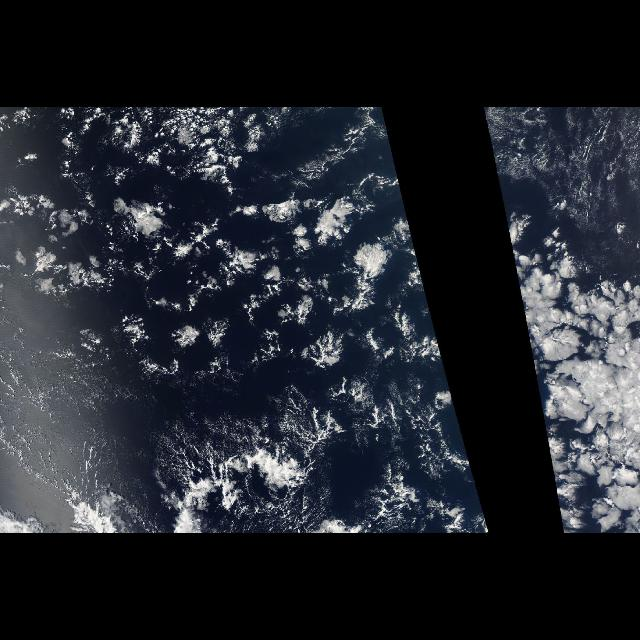Flower: (0, 111, 478, 533), (500, 192, 638, 506)
Sugar: (3, 291, 186, 504)
